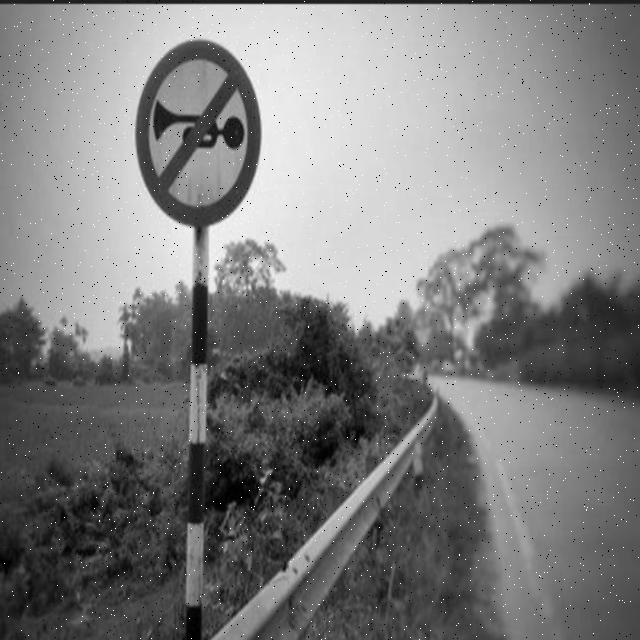No_Horn: (135, 38, 261, 226)
